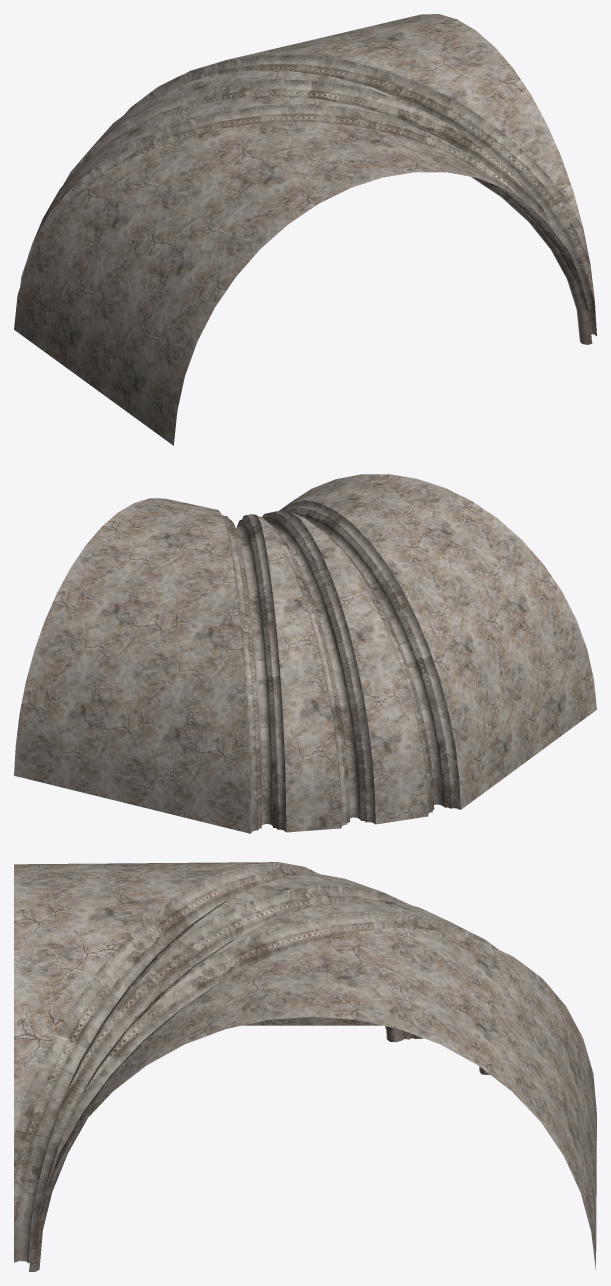
3 renders of one model, top to bottom at view 1: azimuth 30°, elevation 25°; view 2: azimuth 150°, elevation 25°; view 3: azimuth 270°, elevation 25°, orthographic. The views are drawn at different scales.
Visible parts, largest first — view 1: SM_CeilingCorner01_LOD0; view 2: SM_CeilingCorner01_LOD0; view 3: SM_CeilingCorner01_LOD0.
Part boxes in pixels (x1,y1,x2,y2): SM_CeilingCorner01_LOD0: [14, 14, 596, 445]; SM_CeilingCorner01_LOD0: [14, 474, 596, 833]; SM_CeilingCorner01_LOD0: [14, 862, 596, 1271].
Bounding box in the file's own units: 7.81 × 3.8 × 7.81.
2 materials, 2 textured.
